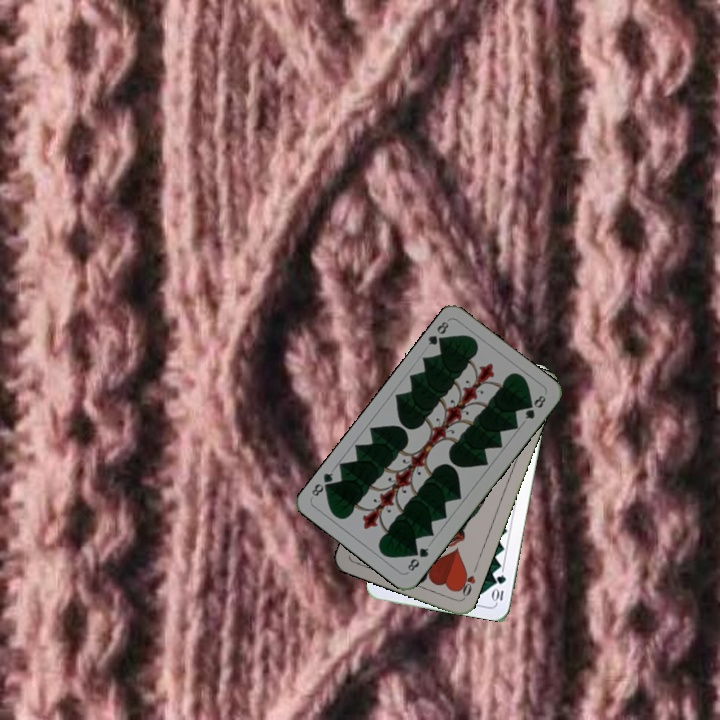G10: (489, 571, 509, 605)
G8: (403, 543, 431, 574), (424, 317, 451, 349)
HO: (454, 561, 480, 600)
